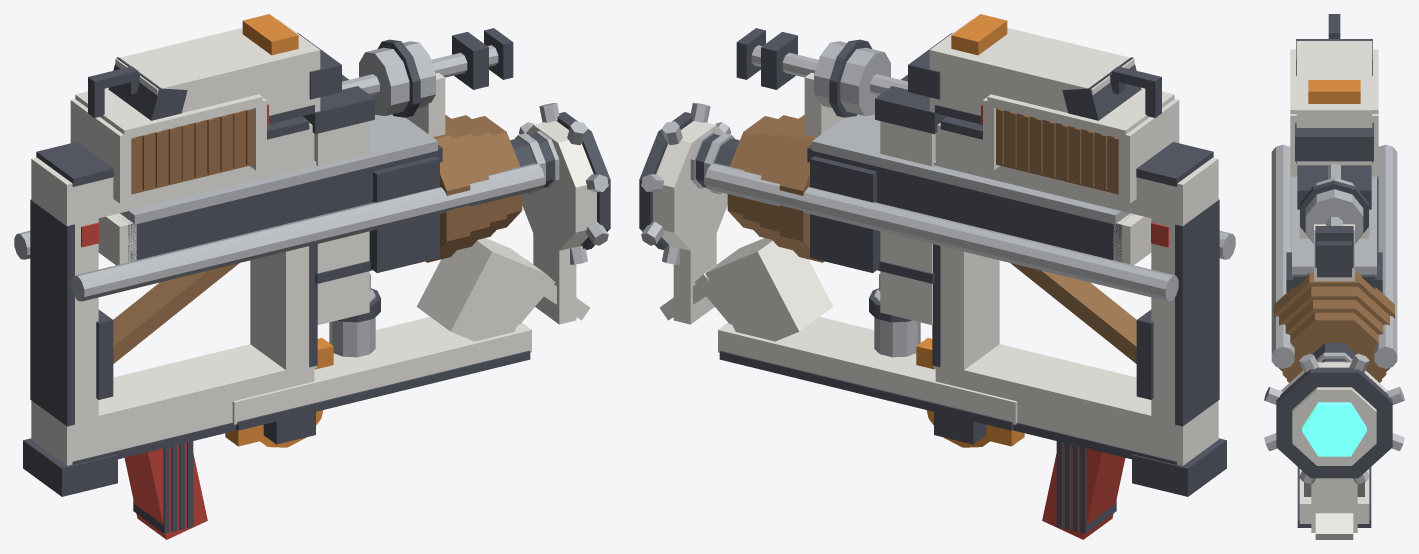
Rendered from Gear_Colette_LP.glb.
3 views of the same model, side by side, from view 1: azimuth 30°, elevation 25°; view 2: azimuth 150°, elevation 25°; view 3: azimuth 270°, elevation 25° (orthographic). The views are drawn at different scales.
Parts seen in each view (by area): view 1: Gear_Colette_LP; view 2: Gear_Colette_LP; view 3: Gear_Colette_LP.
Boxes of the visible parts, x1=… form: Gear_Colette_LP: x1=14, y1=14, x2=610, y2=539; Gear_Colette_LP: x1=639, y1=14, x2=1235, y2=539; Gear_Colette_LP: x1=1264, y1=14, x2=1404, y2=539.
Size of the model in its own units: 0.977 by 0.8037 by 0.2417.
